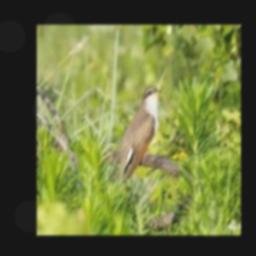Cuckoo: (116, 86, 163, 187)
